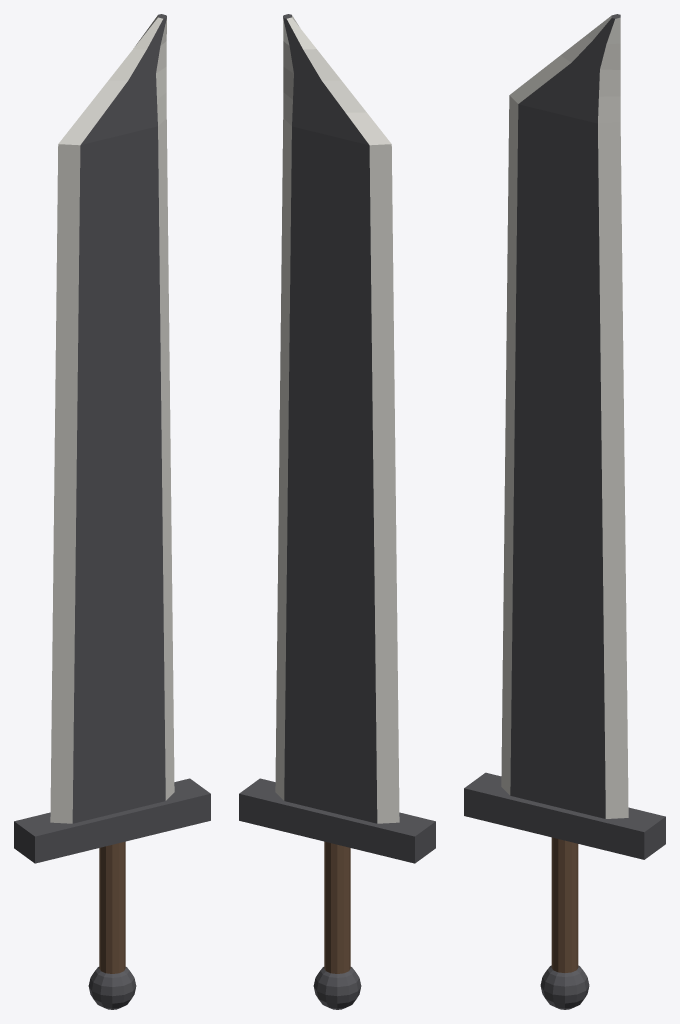
Rendered from slab_blade.glb.
The picture shows the model from 3 angles, left to right: view 1: azimuth 30°, elevation 25°; view 2: azimuth 150°, elevation 25°; view 3: azimuth 330°, elevation 25°; orthographic projection. The views are drawn at different scales.
Visible parts, largest first — view 1: blade; view 2: blade; view 3: blade.
Part boxes in pixels (x1=…): blade: x1=14, y1=14, x2=210, y2=1009; blade: x1=239, y1=14, x2=435, y2=1009; blade: x1=464, y1=14, x2=665, y2=1009.
Size of the model in its own units: 0.34 by 1.81 by 0.08.
